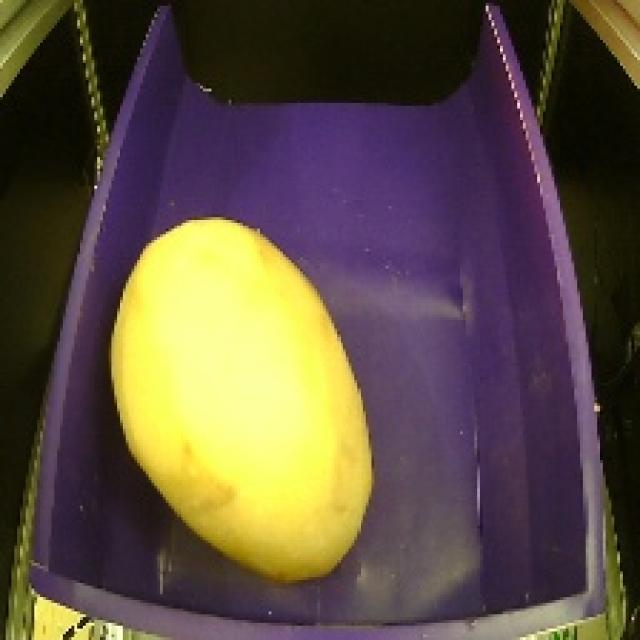full_potato: (98, 210, 384, 588)
